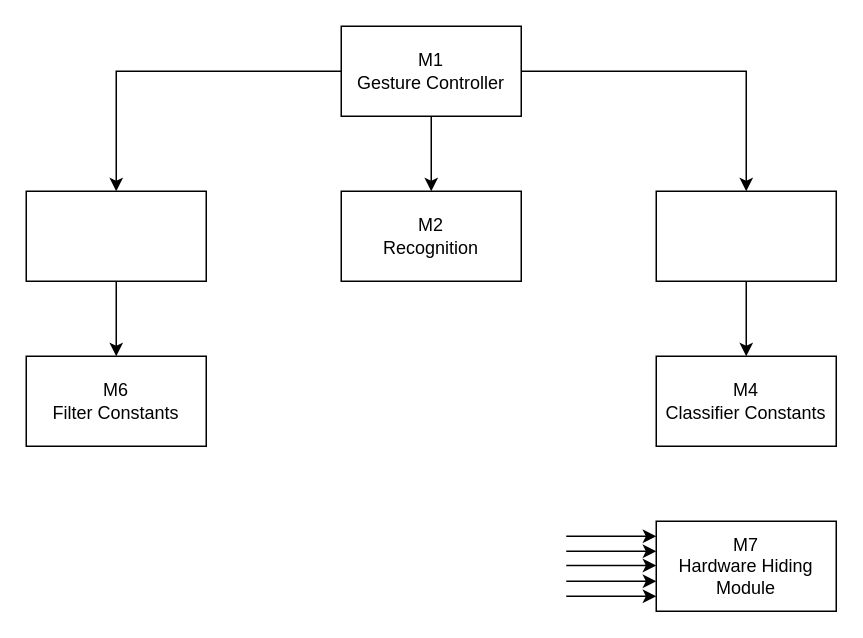
This 863x638 diagram has some shape labels left out. The shapes that lost their labels are listed below. From the top down, each one's box as (x1, y1, x2, y2) in pixels, then its label:
(25, 190, 206, 281): M5 Filter
(655, 190, 836, 281): M3 Classifier
